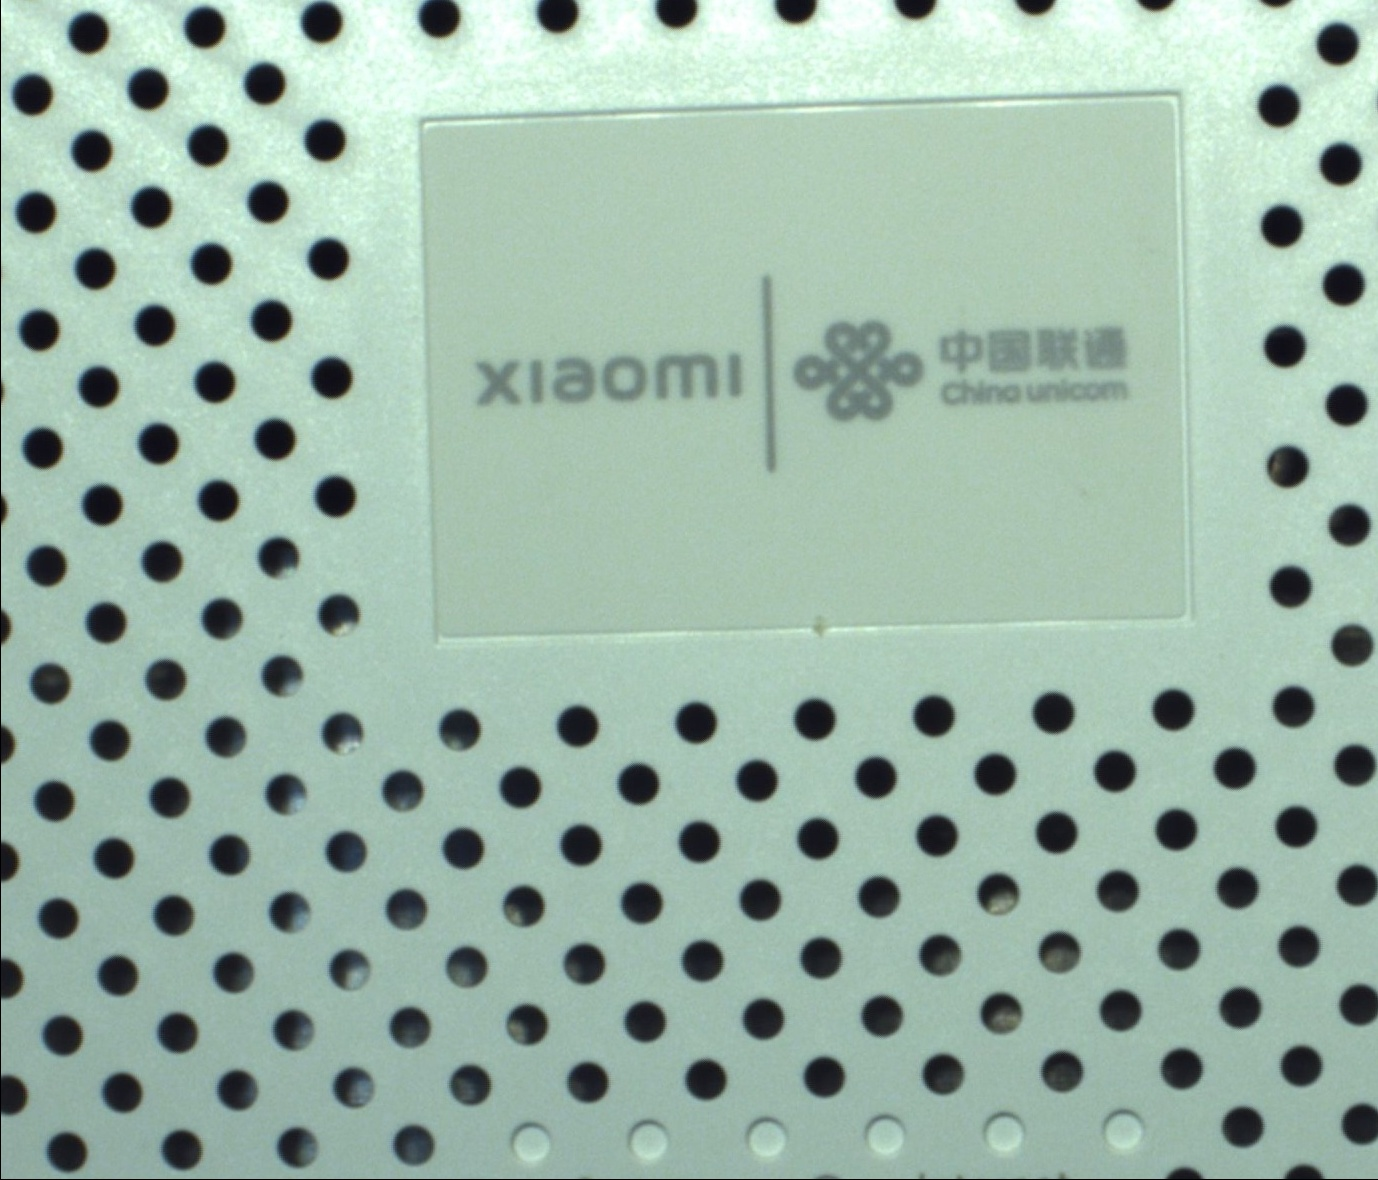MAC_NewUnicom: (447, 273, 1140, 479)
